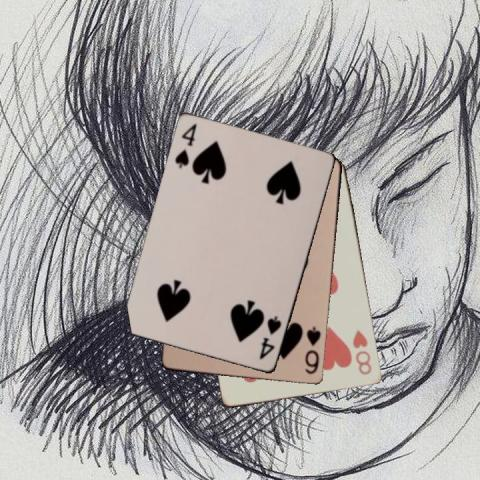4s: (172, 121, 199, 170), (256, 314, 283, 362)
6s: (302, 324, 323, 376)
8h: (350, 326, 373, 376)
